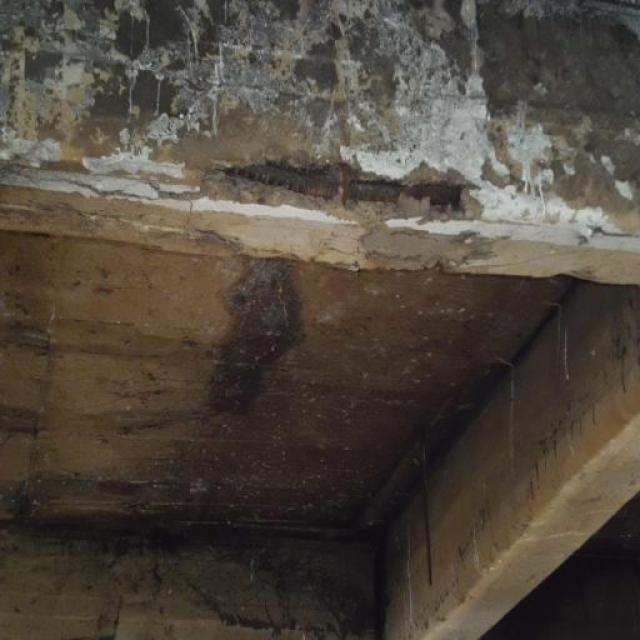D0w0: (220, 161, 461, 220)
